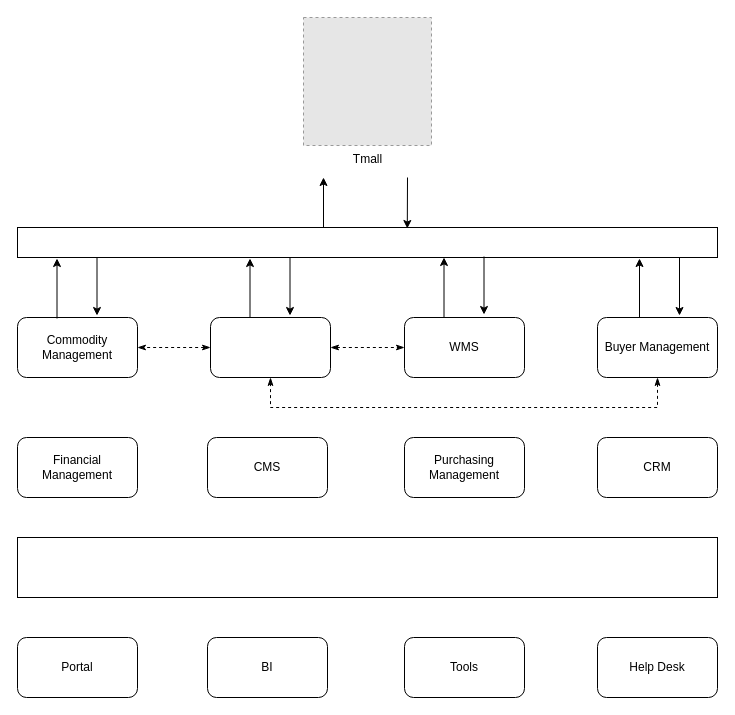
This 735x715 diagram has some shape labels left out. Grey dashed boxes stand in for pictures. Each missing label, with the centre of its shape:
"API Bus" goes at [367,242].
"Data platform" goes at [367,567].
"Order Management" goes at [270,347].
